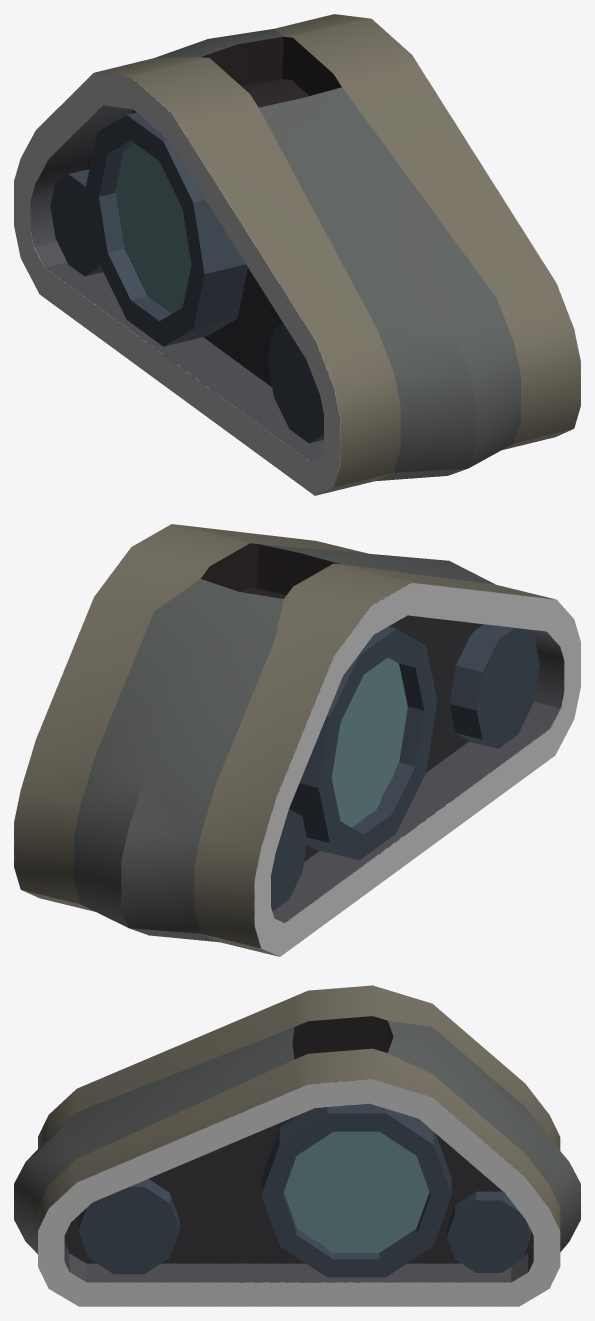
File: TurretBottom.fbx
The picture shows the model from 3 angles, top to bottom: view 1: azimuth 30°, elevation 25°; view 2: azimuth 150°, elevation 25°; view 3: azimuth 270°, elevation 25°; orthographic projection. The views are drawn at different scales.
Parts seen in each view (by area): view 1: TurretBottom; view 2: TurretBottom; view 3: TurretBottom.
Part boxes in pixels (left/top/right/bottom): TurretBottom: left=14, top=14, right=580, bottom=495; TurretBottom: left=14, top=524, right=580, bottom=956; TurretBottom: left=14, top=985, right=580, bottom=1306.
Size of the model in its own units: 59.38 by 67.03 by 152.
